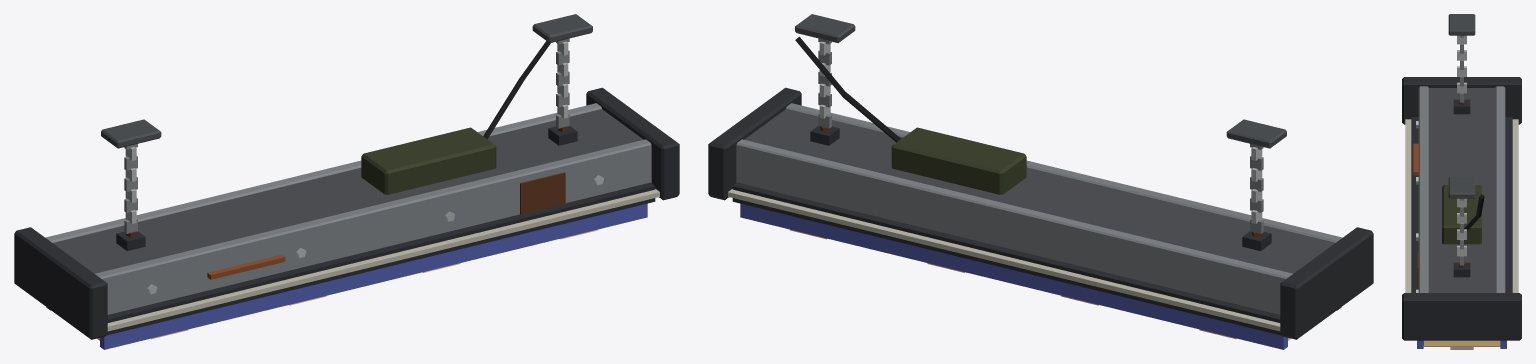
File: prop_grow_light.fbx
The picture shows the model from 3 angles, left to right: view 1: azimuth 30°, elevation 25°; view 2: azimuth 150°, elevation 25°; view 3: azimuth 270°, elevation 25°; orthographic projection. The views are drawn at different scales.
Visible parts, largest first — view 1: prop_grow_light, Strip; view 2: prop_grow_light, Strip; view 3: prop_grow_light, Strip.
Boxes of the visible parts, left/top/right/bottom form: prop_grow_light: left=14, top=14, right=679, bottom=339; Strip: left=46, top=203, right=647, bottom=349; prop_grow_light: left=708, top=14, right=1373, bottom=339; Strip: left=740, top=203, right=1341, bottom=349; prop_grow_light: left=1402, top=14, right=1521, bottom=340; Strip: left=1417, top=340, right=1506, bottom=349.
Size of the model in its own units: 1.59 by 0.492 by 0.36.
